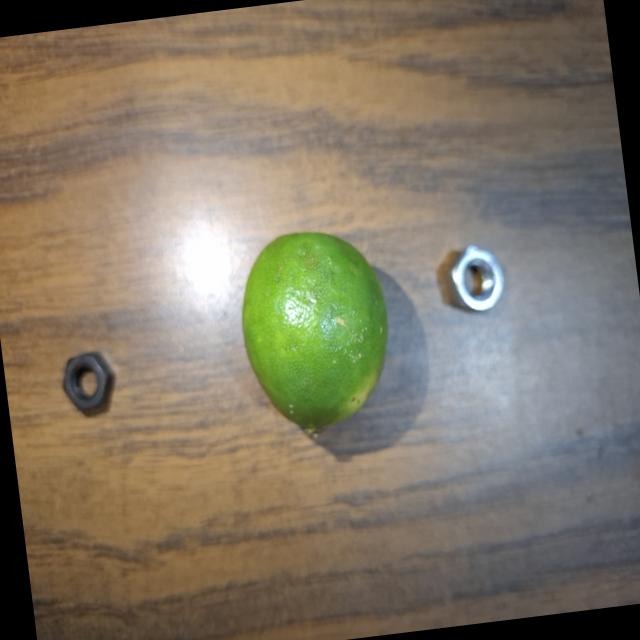limon: (226, 218, 412, 450)
milimetrico: (51, 333, 123, 424)
tuerca: (437, 236, 511, 321)
